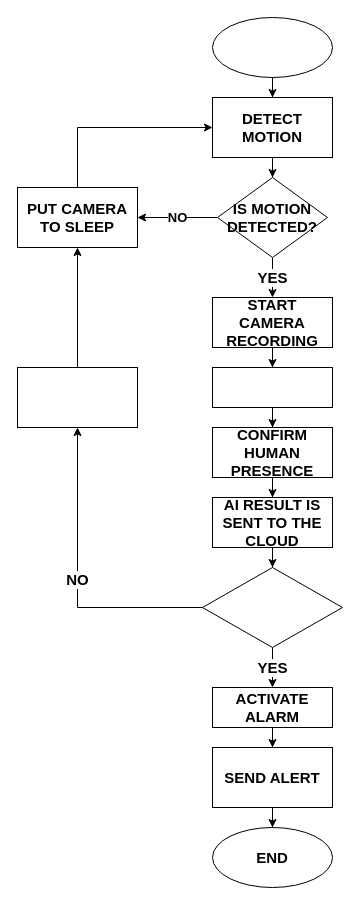
Image size: 360x905. Some labels were removed from this diagram. The centre of each missing label's shape, as x and y in pixels:
"EVENT IS LOGGED" goes at [77,397].
"IS HUMAN DETECTED?" goes at [272,607].
"START" goes at [272,47].
"TAKE VIDEO FOOTAGE" goes at [272,387].
